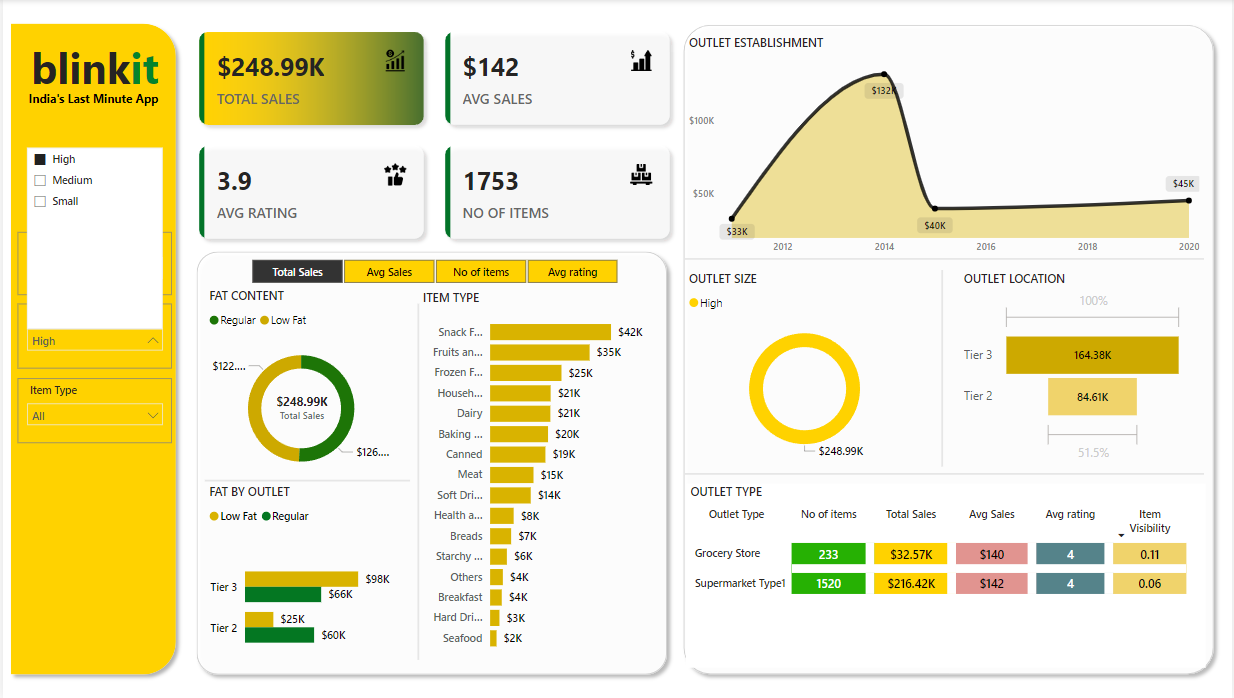

This screenshot's page, from the dashboard's own definition file:
{"tool":"powerbi","page":{"name":"Page 1","canvas":[1400,800],"ordinal":0},"visuals":[{"type":"shape","box":[0,20,206,760],"z":0},{"type":"textbox","box":[0,100,206,40],"z":1000},{"type":"textbox","box":[16,42,176,82],"z":2000},{"type":"cardVisual","fields":{"Data":["BlinkIT Grocery Data.Total Sales","BlinkIT Grocery Data.Avg Sales","BlinkIT Grocery Data.Avg rating","BlinkIT Grocery Data.No of items"]},"box":[206,22,570,270],"z":3000},{"type":"shape","box":[212,280,554,500],"z":4000},{"type":"slicer","fields":{"Values":["Metrics.Metrics"]},"box":[258,292,466,40],"z":5000},{"type":"donutChart","title":"FAT CONTENT","fields":{"Y":["BlinkIT Grocery Data.Total Sales"],"Category":["BlinkIT Grocery Data.Item Fat Content"]},"box":[230,330,220,230],"z":6000},{"type":"cardVisual","fields":{"Data":["BlinkIT Grocery Data.Total Sales"]},"box":[276,434,128,58],"z":7000},{"type":"clusteredBarChart","title":"FAT BY OUTLET","fields":{"Y":["BlinkIT Grocery Data.Total Sales"],"Category":["BlinkIT Grocery Data.Outlet Location Type"],"Series":["BlinkIT Grocery Data.Item Fat Content"]},"box":[230,554,220,230],"z":8000},{"type":"shape","box":[230,540,234,20],"z":9000},{"type":"shape","box":[464,348,20,406],"z":10000},{"type":"barChart","title":"ITEM TYPE","fields":{"Y":["BlinkIT Grocery Data.Total Sales"],"Category":["BlinkIT Grocery Data.Item Type"]},"box":[474,332,278,422],"z":11000},{"type":"shape","box":[766,22,622,758],"z":12000},{"type":"lineChart","title":"OUTLET ESTABLISHMENT","fields":{"Category":["BlinkIT Grocery Data.Outlet Establishment Year"],"Y":["BlinkIT Grocery Data.Total Sales"]},"box":[776,42,592,260],"z":13000},{"type":"shape","box":[776,284,592,28],"z":14000},{"type":"donutChart","title":"OUTLET SIZE","fields":{"Y":["BlinkIT Grocery Data.Total Sales"],"Category":["BlinkIT Grocery Data.Outlet Size"]},"box":[776,310,274,225],"z":15000},{"type":"shape","box":[1058,310,24,224],"z":16000},{"type":"funnel","title":"OUTLET LOCATION","fields":{"Y":["Sum(BlinkIT Grocery Data.Sales)"],"Category":["BlinkIT Grocery Data.Outlet Location Type"]},"box":[1090,310,260,224],"z":17000},{"type":"shape","box":[776,534,592,18],"z":17001},{"type":"pivotTable","title":"OUTLET TYPE","fields":{"Rows":["BlinkIT Grocery Data.Outlet Type"],"Values":["BlinkIT Grocery Data.No of items","BlinkIT Grocery Data.Total Sales","BlinkIT Grocery Data.Avg Sales","BlinkIT Grocery Data.Avg rating","Avg(BlinkIT Grocery Data.Item Visibility)"]},"box":[778,554,592,210],"z":17002},{"type":"slicer","fields":{"Values":["BlinkIT Grocery Data.Outlet Location Type"]},"box":[16,266,176,72],"z":17003},{"type":"slicer","fields":{"Values":["BlinkIT Grocery Data.Outlet Size"]},"box":[16,348,176,74],"z":17004},{"type":"slicer","fields":{"Values":["BlinkIT Grocery Data.Item Type"]},"box":[16,434,176,74],"z":17005}]}

Visuals, with their boxes in screenshot pixels (x1, y1, x2, y2), scaled from the page's 1400x800 canvas onto the 1234x698 screenshot:
shape: pyautogui.locateOnScreen(0, 17, 182, 681)
textbox: pyautogui.locateOnScreen(0, 87, 182, 122)
textbox: pyautogui.locateOnScreen(14, 37, 169, 108)
cardVisual - BlinkIT Grocery Data.Total Sales x BlinkIT Grocery Data.Avg Sales: pyautogui.locateOnScreen(182, 19, 684, 255)
shape: pyautogui.locateOnScreen(187, 244, 675, 681)
slicer - Metrics.Metrics: pyautogui.locateOnScreen(227, 255, 638, 290)
"FAT CONTENT" donutChart: pyautogui.locateOnScreen(203, 288, 397, 489)
cardVisual - BlinkIT Grocery Data.Total Sales: pyautogui.locateOnScreen(243, 379, 356, 429)
"FAT BY OUTLET" clusteredBarChart: pyautogui.locateOnScreen(203, 483, 397, 684)
shape: pyautogui.locateOnScreen(203, 471, 409, 489)
shape: pyautogui.locateOnScreen(409, 304, 427, 658)
"ITEM TYPE" barChart: pyautogui.locateOnScreen(418, 290, 663, 658)
shape: pyautogui.locateOnScreen(675, 19, 1223, 681)
"OUTLET ESTABLISHMENT" lineChart: pyautogui.locateOnScreen(684, 37, 1206, 263)
shape: pyautogui.locateOnScreen(684, 248, 1206, 272)
"OUTLET SIZE" donutChart: pyautogui.locateOnScreen(684, 270, 926, 467)
shape: pyautogui.locateOnScreen(933, 270, 954, 466)
"OUTLET LOCATION" funnel: pyautogui.locateOnScreen(961, 270, 1190, 466)
shape: pyautogui.locateOnScreen(684, 466, 1206, 482)
"OUTLET TYPE" pivotTable: pyautogui.locateOnScreen(686, 483, 1208, 667)
slicer - BlinkIT Grocery Data.Outlet Location Type: pyautogui.locateOnScreen(14, 232, 169, 295)
slicer - BlinkIT Grocery Data.Outlet Size: pyautogui.locateOnScreen(14, 304, 169, 368)
slicer - BlinkIT Grocery Data.Item Type: pyautogui.locateOnScreen(14, 379, 169, 443)
